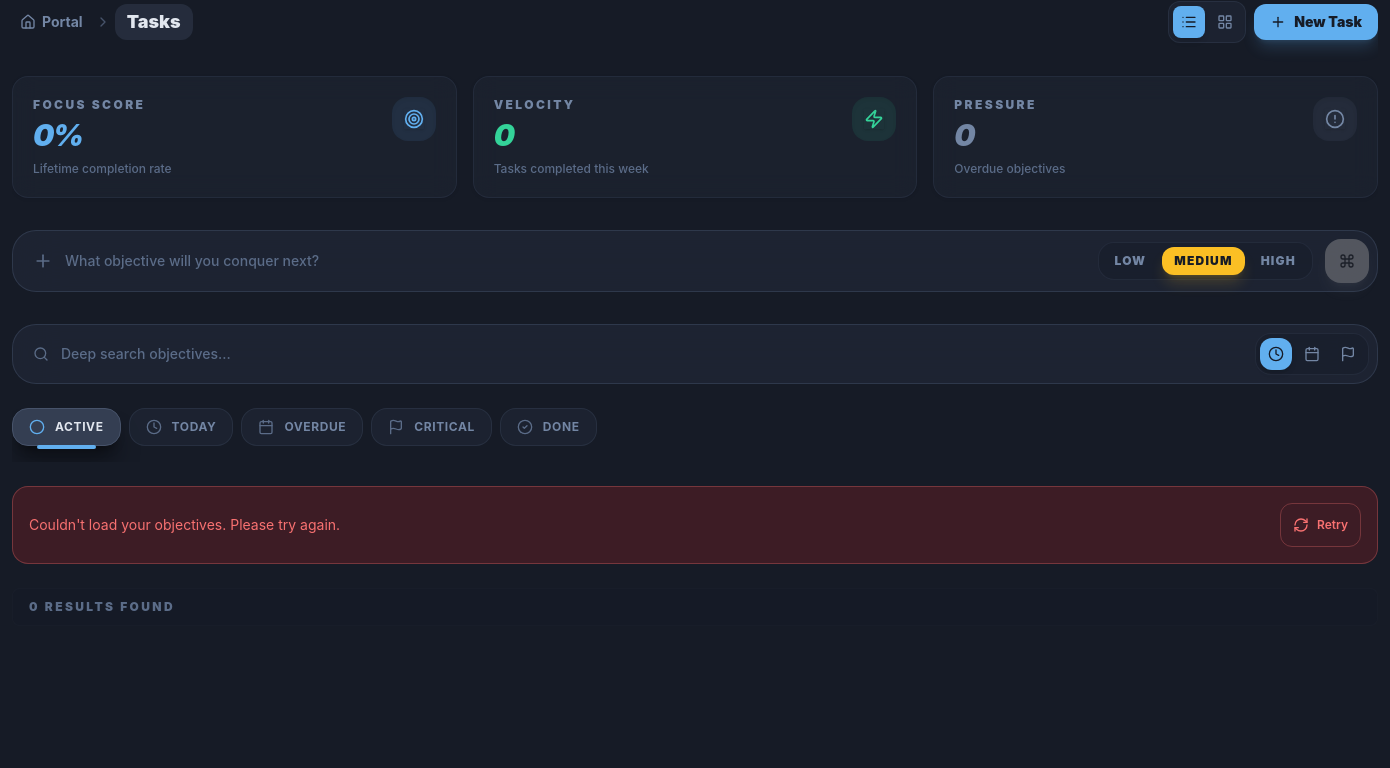
TodoAdminView › keeps a failed load distinct from an empty task list and retries it
Expected: the message "Couldn't load your objectives. Please try again. Retry" is shown, [12, 486, 1378, 564]
Click the button with aria-label "retry loading objectives" at {"x": 1320, "y": 525}, box [1280, 503, 1361, 547]
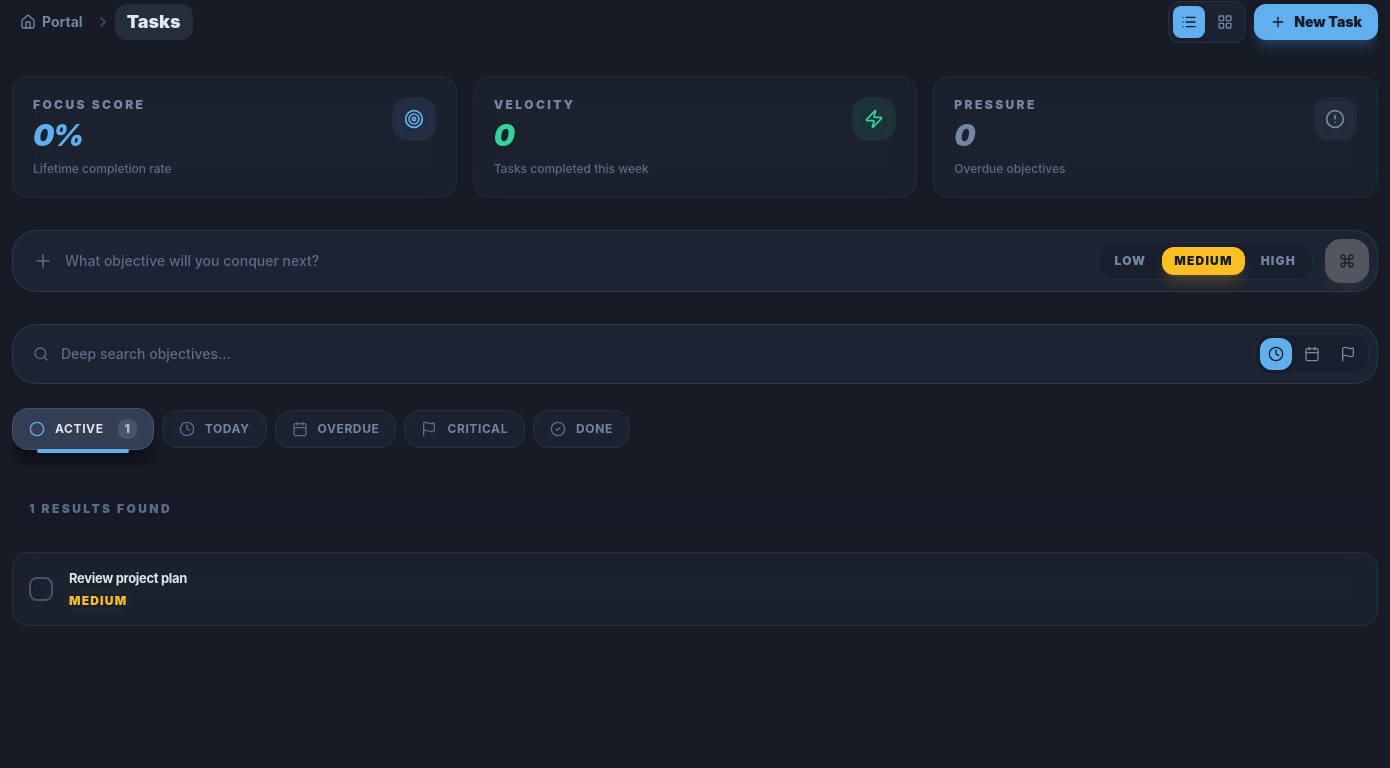
Result: the heading "Review project plan" is shown at [69, 570, 187, 586]
